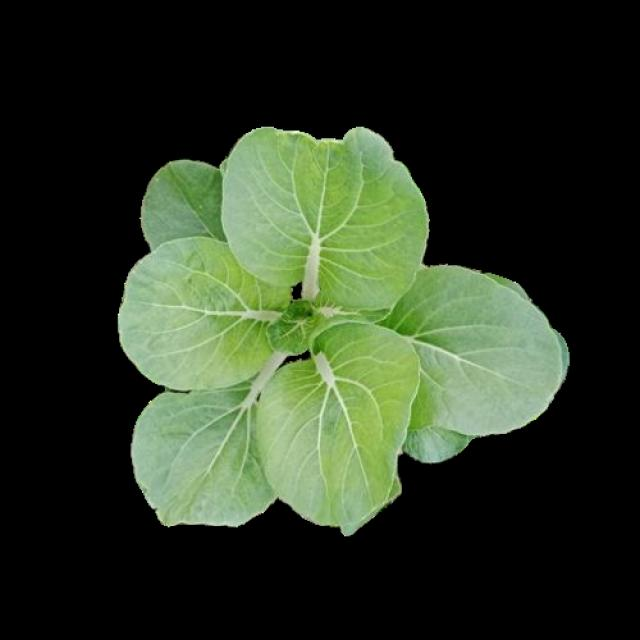not-mature: (120, 130, 566, 536)
unhealthy: (220, 130, 429, 310)
